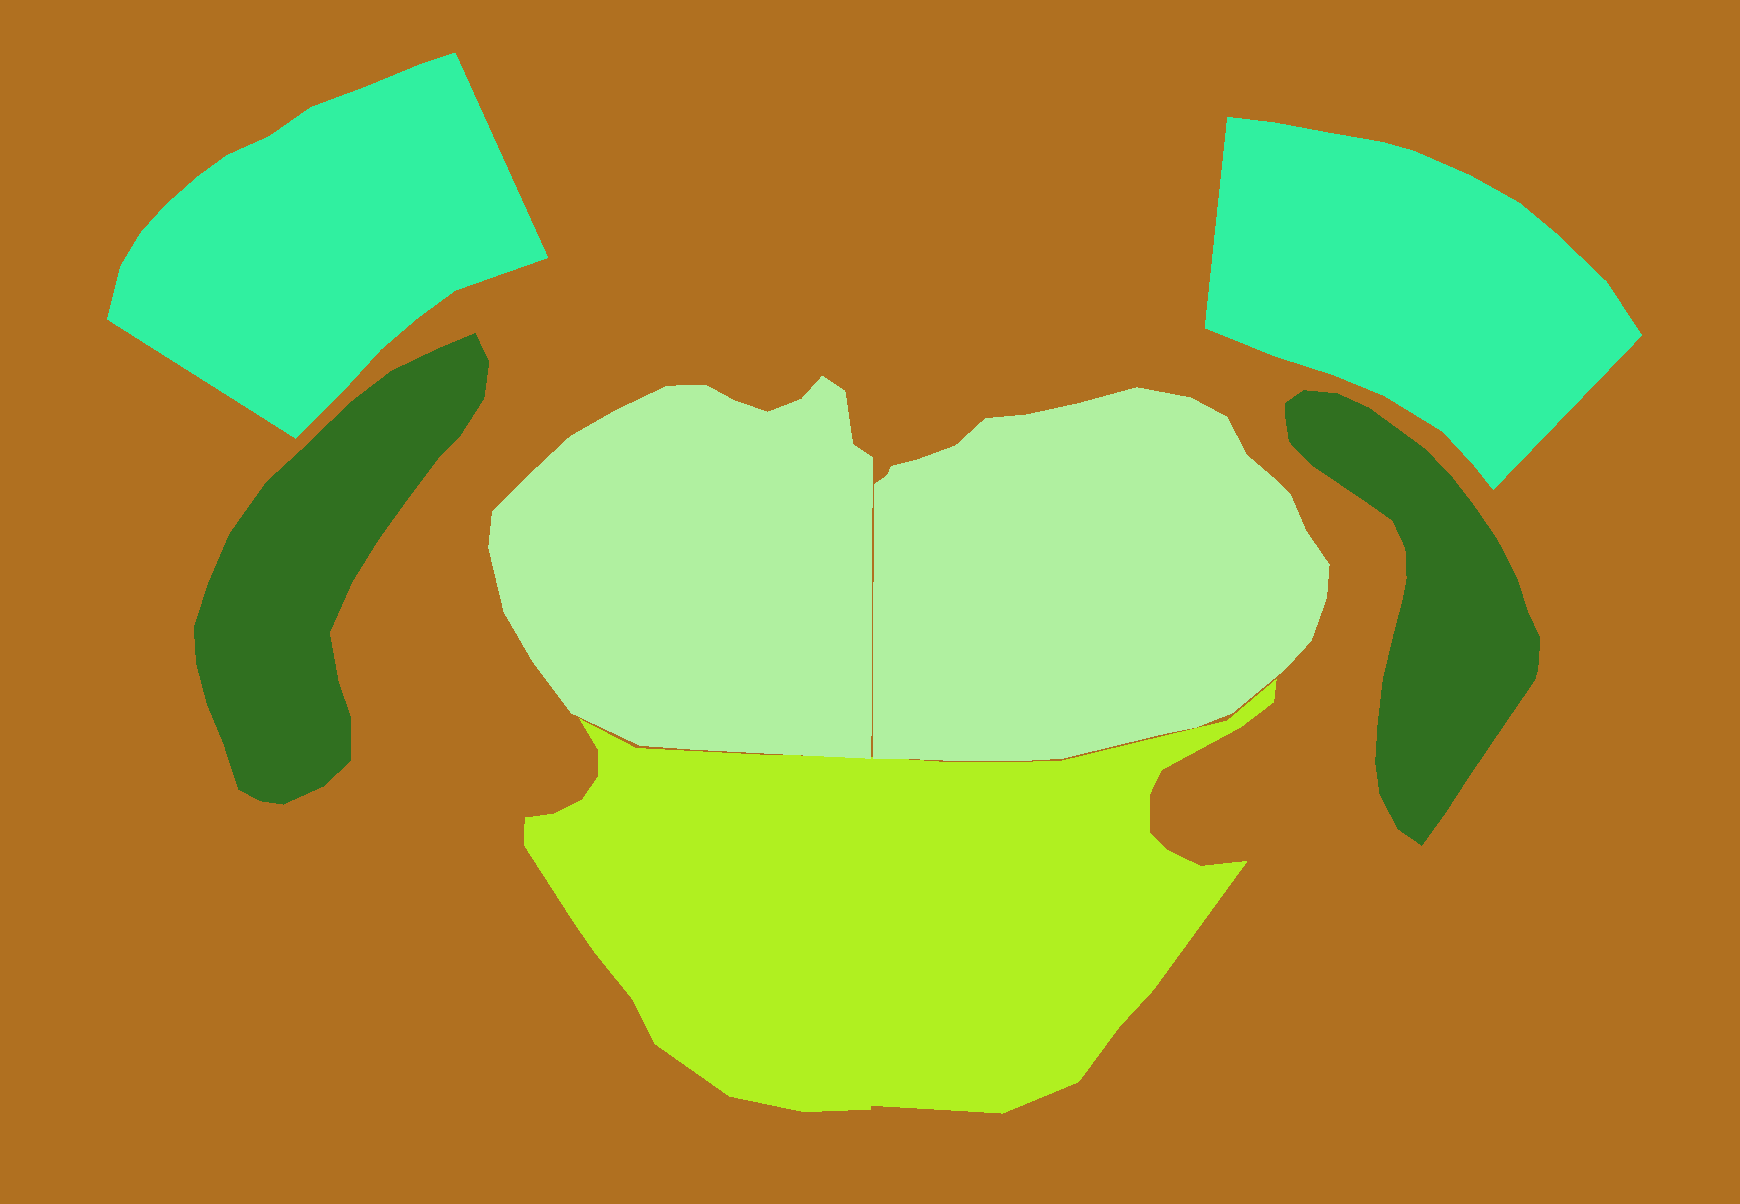Cerebral nuclei: (194, 333, 491, 804), (1285, 390, 1540, 846)
Hypothalamus: (871, 679, 1277, 1114), (524, 718, 874, 1111)
Somatosensory area: (107, 52, 549, 437), (1205, 118, 1643, 492)
Thalamus: (873, 387, 1330, 761), (488, 375, 873, 759)
